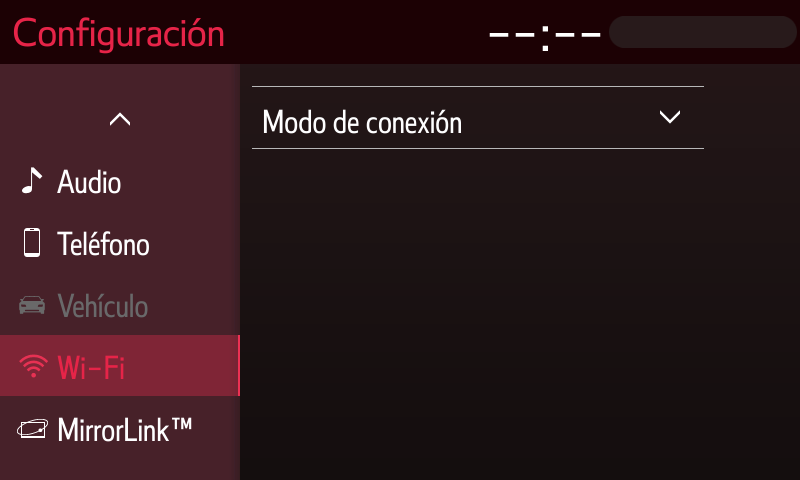touchPart: (249, 81, 712, 155), (13, 408, 204, 456), (16, 221, 152, 269), (16, 156, 138, 203), (101, 101, 140, 132)
untouchPart: (1, 330, 243, 399), (470, 7, 795, 56), (10, 5, 233, 54), (15, 289, 155, 323)
